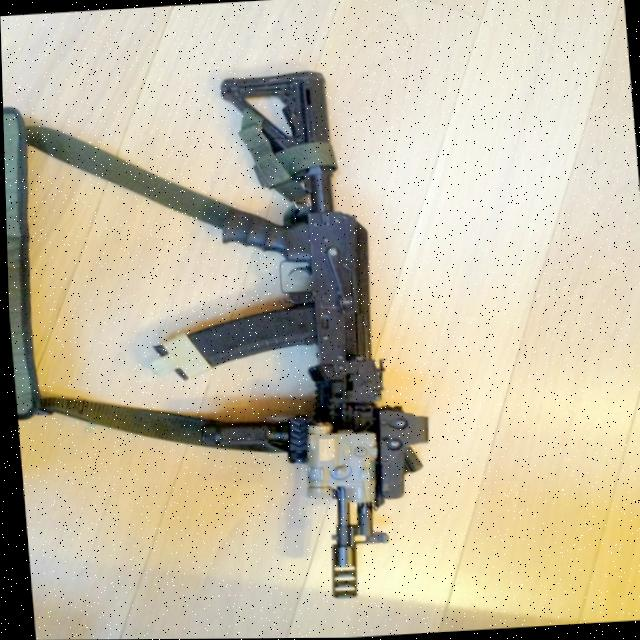firearm: (124, 68, 439, 612)
